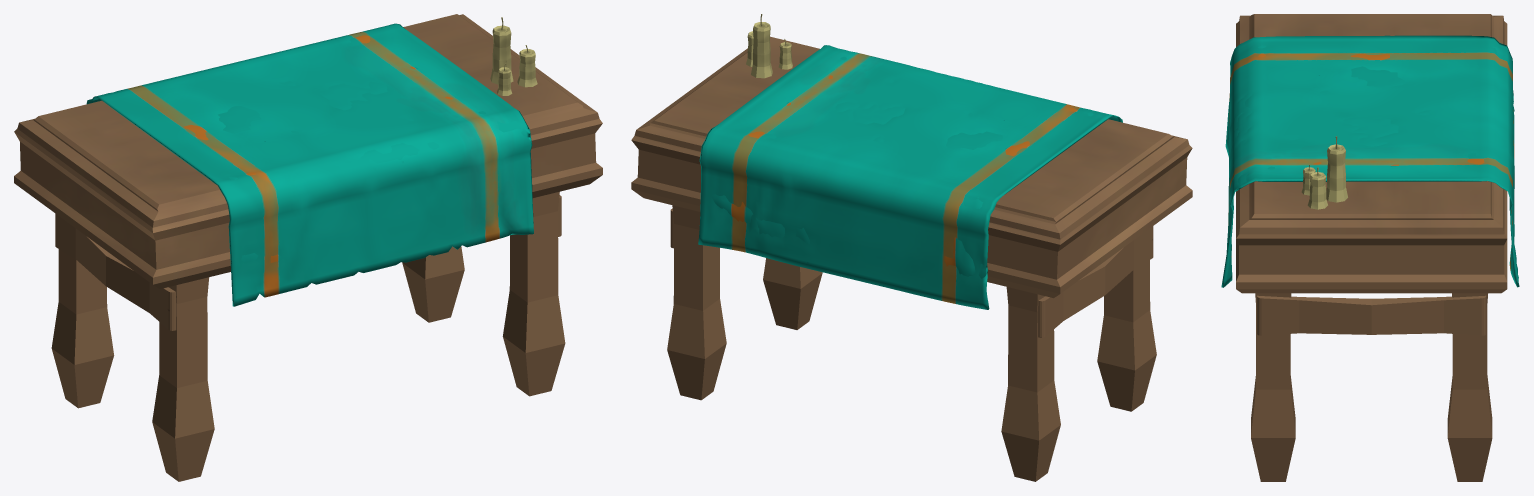
The model's file is serve table.fbx.
3 renders of one model, left to right at view 1: azimuth 30°, elevation 25°; view 2: azimuth 150°, elevation 25°; view 3: azimuth 270°, elevation 25°, orthographic. The views are drawn at different scales.
Visible parts, largest first — view 1: Serve table; view 2: Serve table; view 3: Serve table.
Boxes of the visible parts, x1,y1,x2,y2 form: Serve table: (14,14,602,481); Serve table: (631,14,1192,481); Serve table: (1221,14,1519,481).
Size of the model in its own units: 210 by 155 by 123.
1 material, 1 textured.
